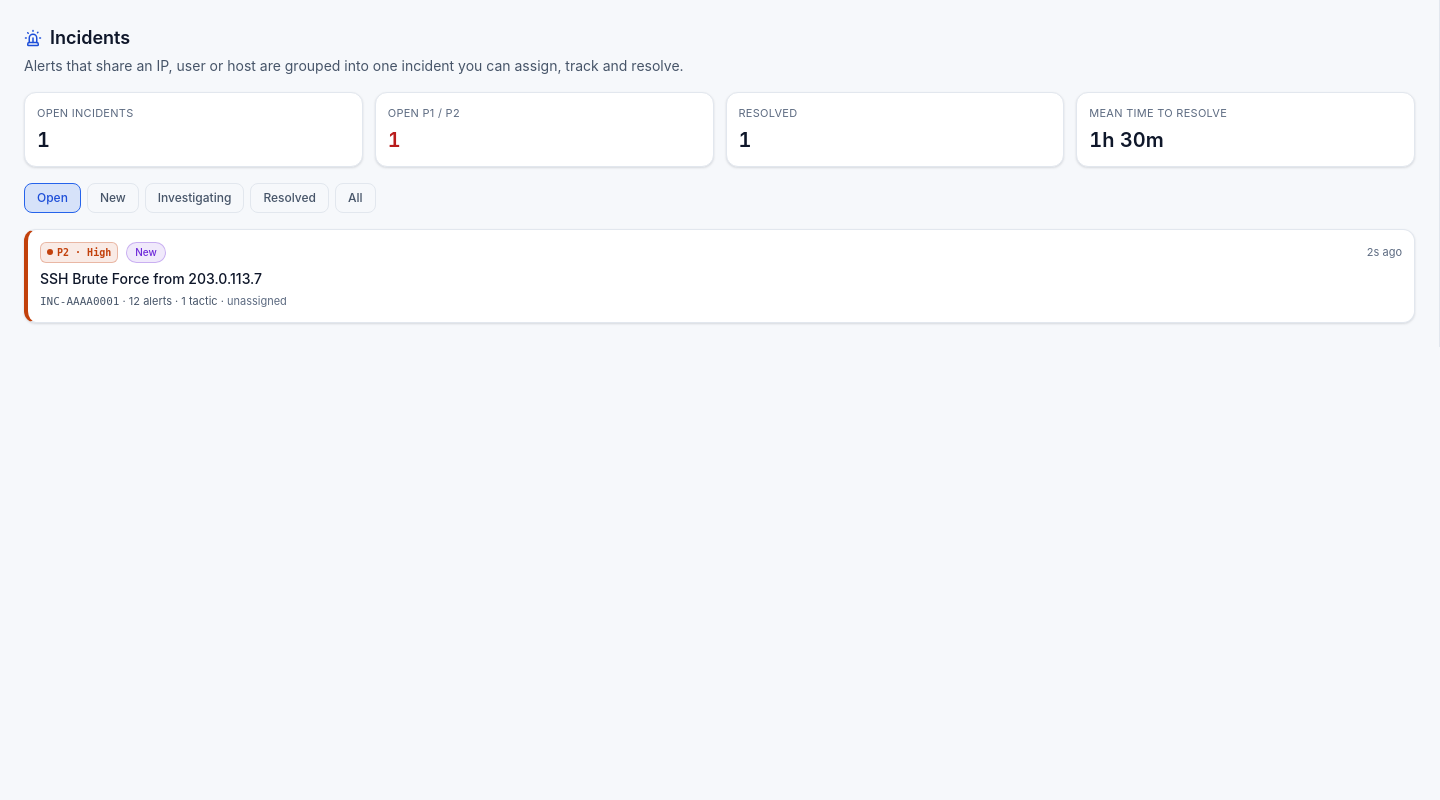
it: Incidents page › shows the server error when an update is rejected
The width and height of the screenshot is (1440, 800).
Click the text "SSH Brute Force from 203.0.113.7": (151, 278) [40,270,262,286]
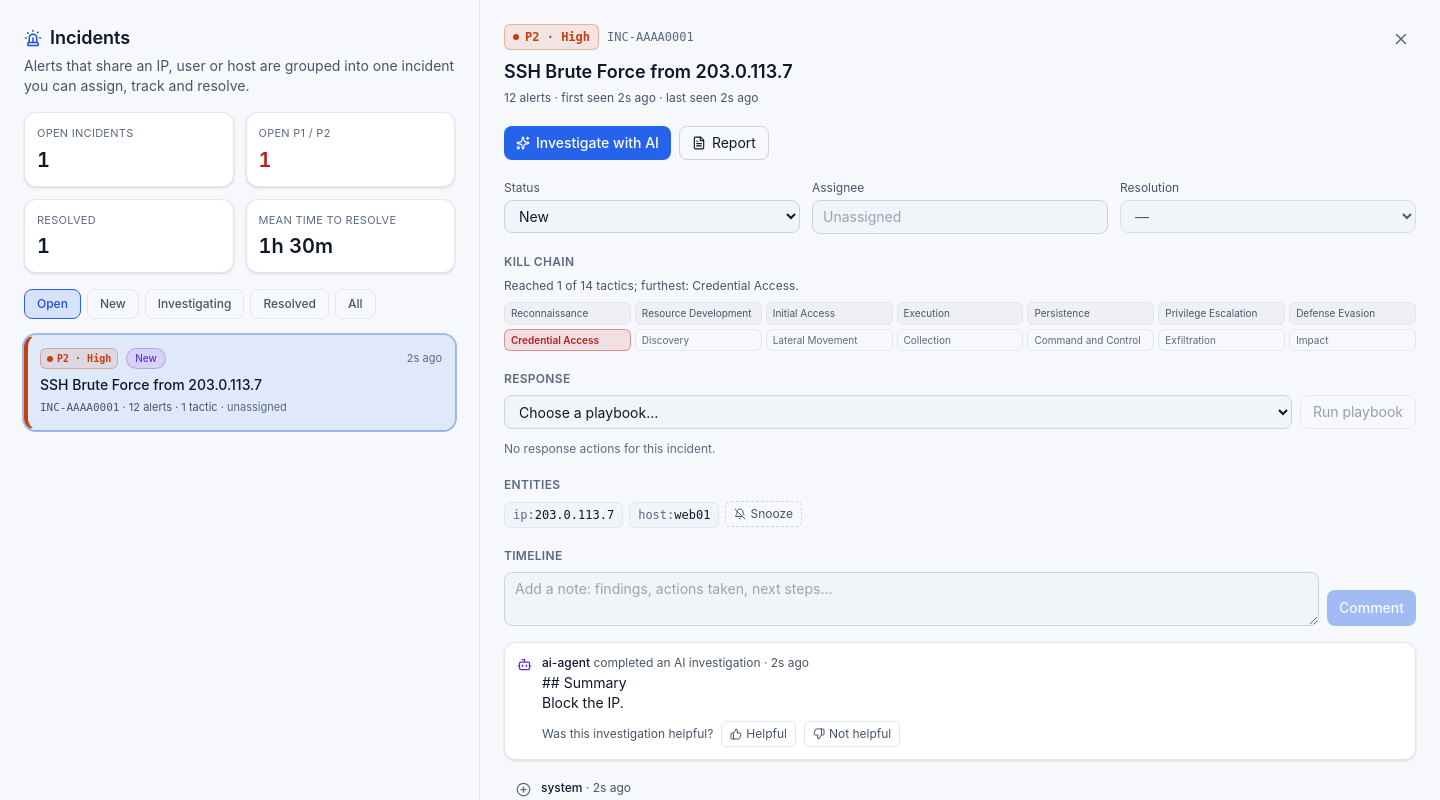
Now the heading "SSH Brute Force from 203.0.113.7" is shown, box [504,61,792,82]
Select "Resolved" in the dropdown labelled "Status": (652, 216) [504,200,800,233]
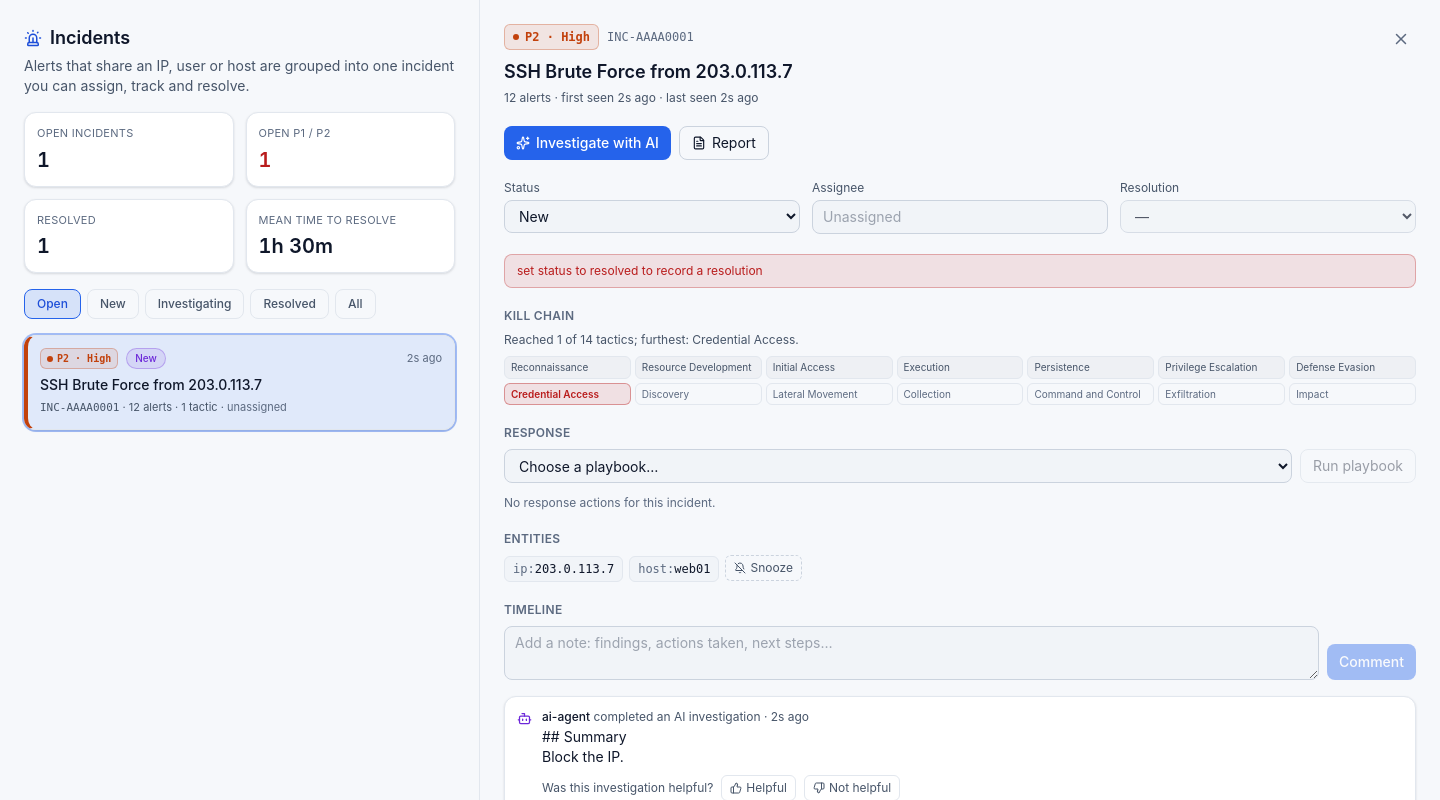
Now the message shows "set status to resolved", box [517,263,763,278]
